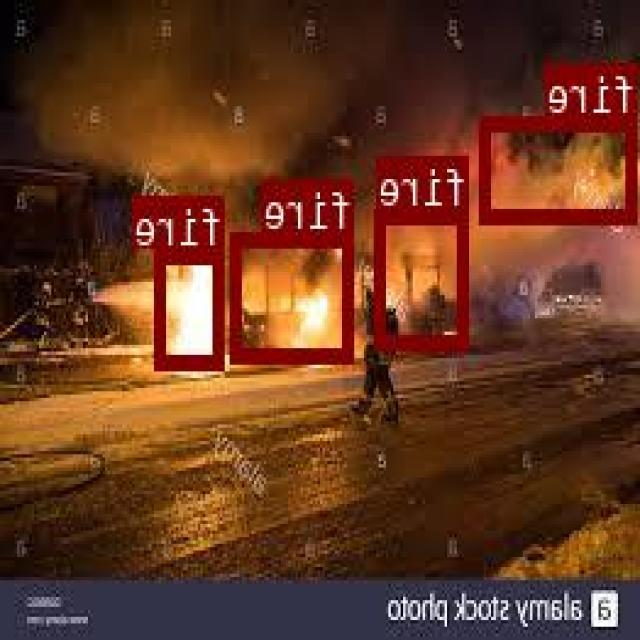fire: (483, 116, 638, 220), (234, 230, 356, 359), (378, 207, 469, 345), (157, 246, 227, 366)
